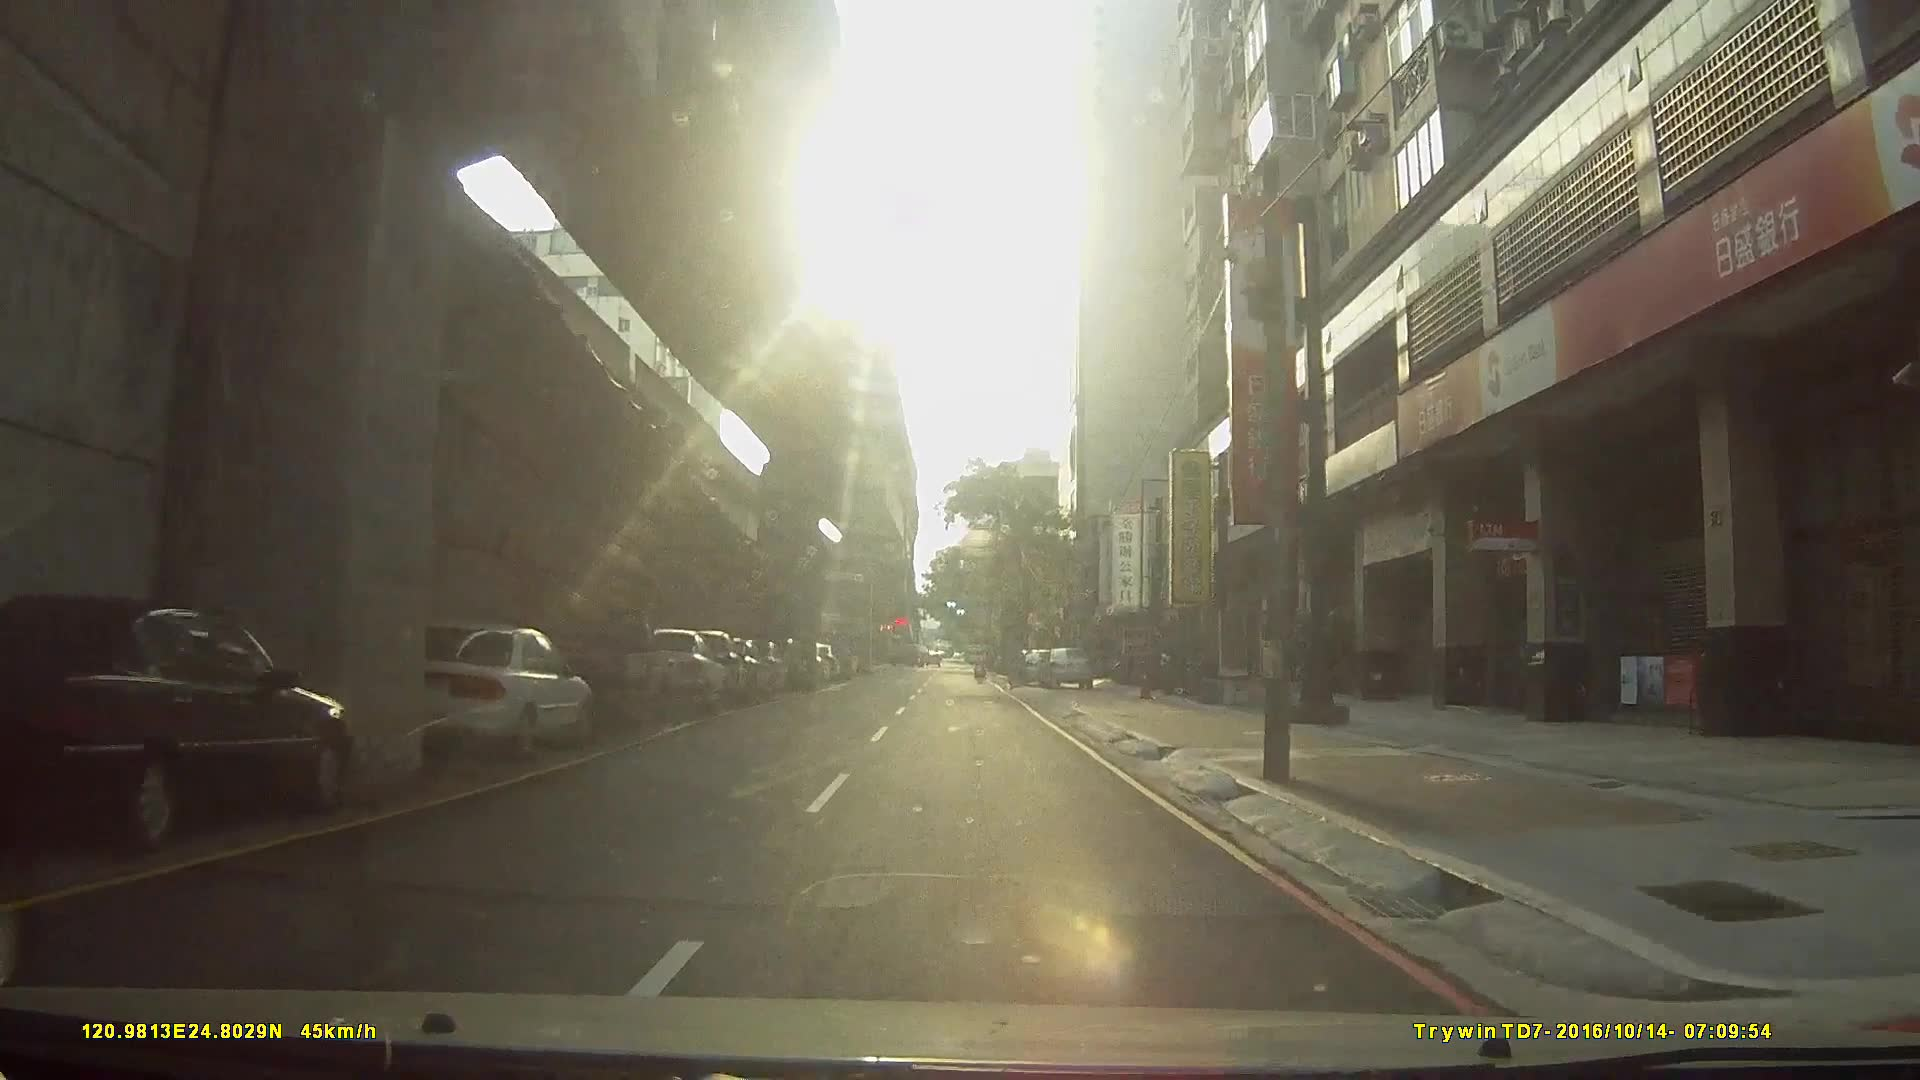vehicle: (0, 588, 351, 853), (382, 615, 589, 760), (502, 600, 666, 725), (616, 624, 729, 713), (659, 620, 794, 670), (1035, 644, 1095, 690)
